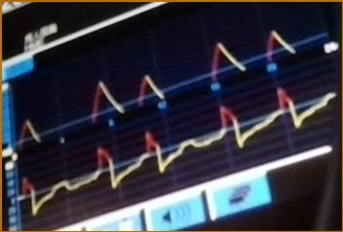Ineffective_effort Flow: (18, 87, 336, 215)
Ineffective_effort Volume: (18, 24, 297, 149)
